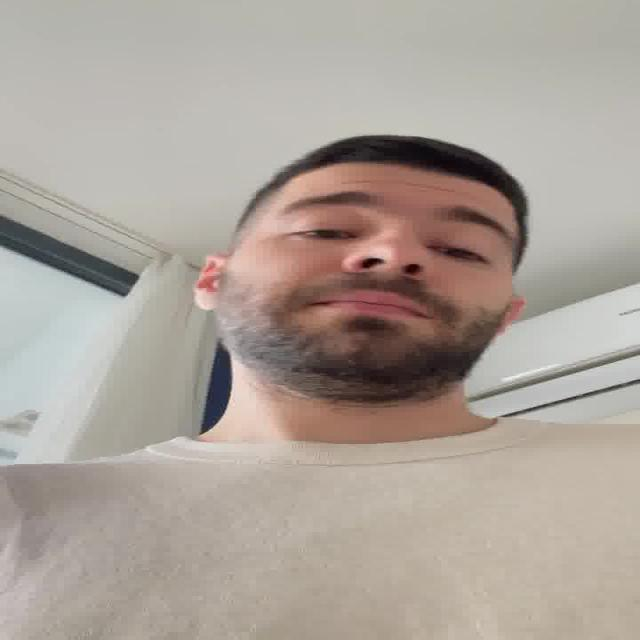earlobe: (487, 295, 528, 349), (193, 254, 227, 312)
